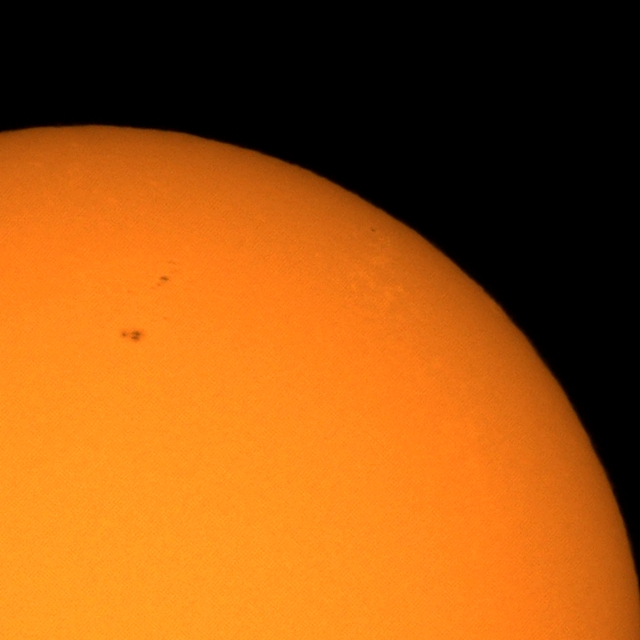sunspot: (120, 329, 142, 343), (156, 275, 170, 288), (369, 226, 377, 234)
